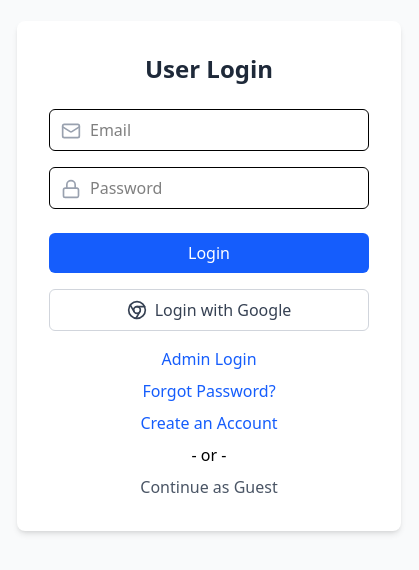
Test: UserLogin Component › handles login error with default message when no server message
Type "test@example.com" into the field with placeholder "Email" at coordinates (209, 130), box [49,109,369,151]
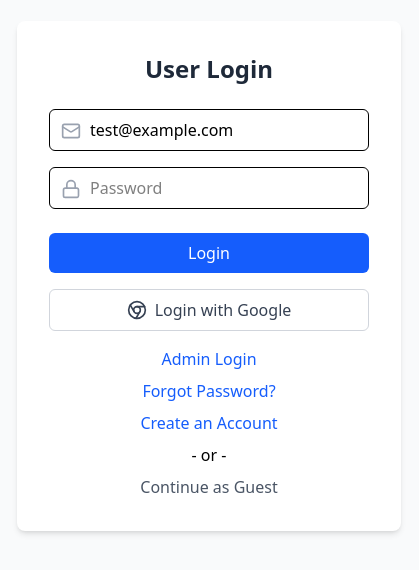
Type "password123" into the password field with placeholder "Password" at coordinates (209, 188), box [49,167,369,209]
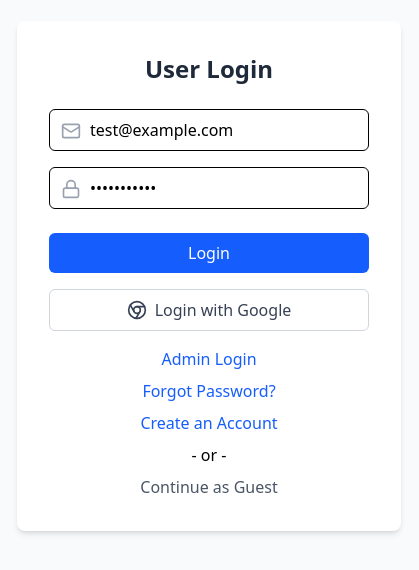
Click the button "Login" at coordinates (209, 253), box [49,233,369,273]
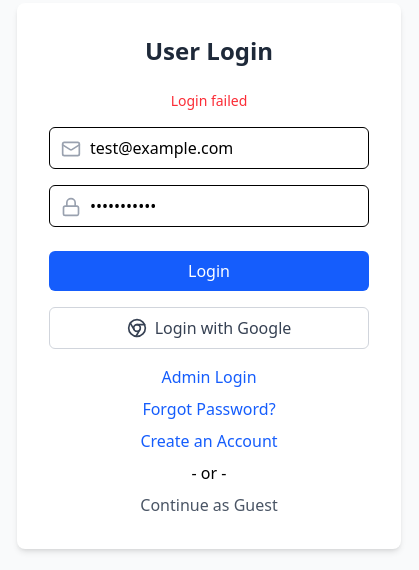
Expected: the text "Login failed" is shown, [171,91,247,110]
